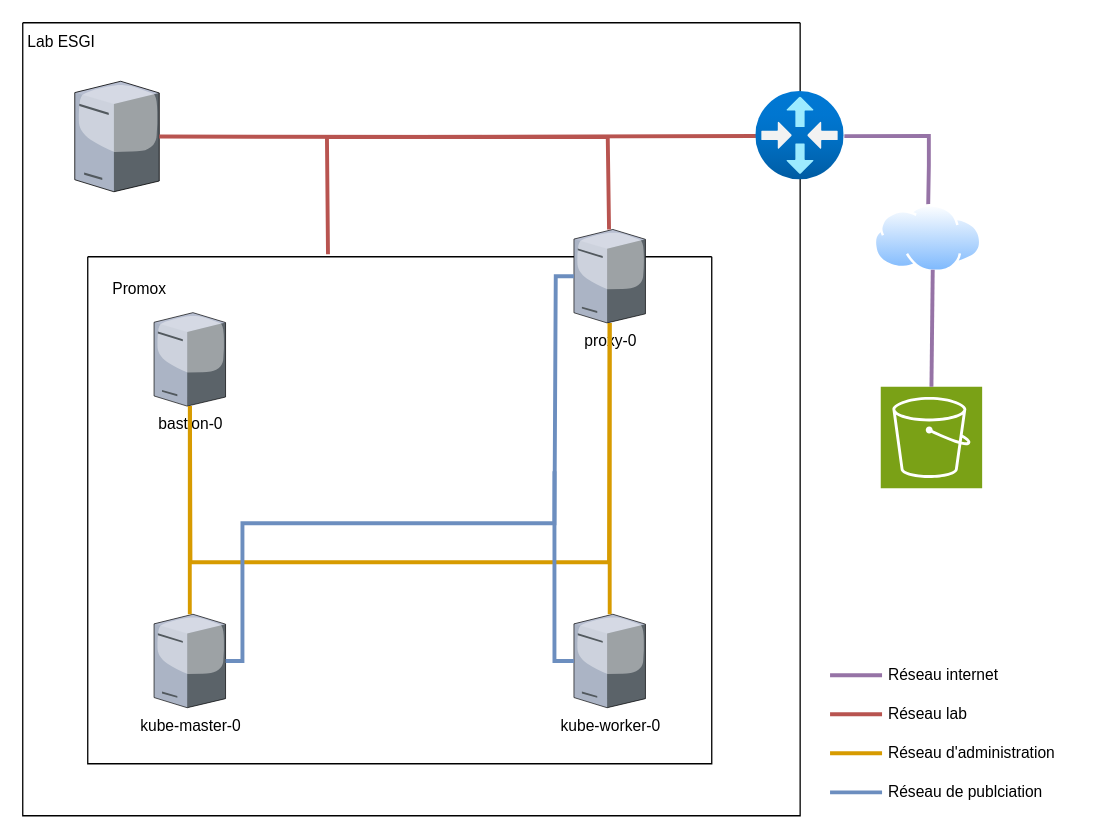
The diagram is 1117 pixels wide and 838 high, and some of its shapes have lost their labels. Here are the shapes that lost their labels. From the top down, the centre of each, then its label:
At [116,136]: "Serveur FTP".
At [930,436]: "Stockage S3".
